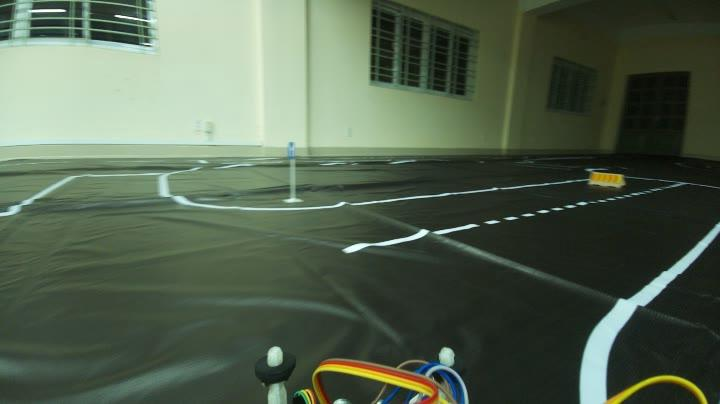onewayroad: (284, 139, 296, 162)
